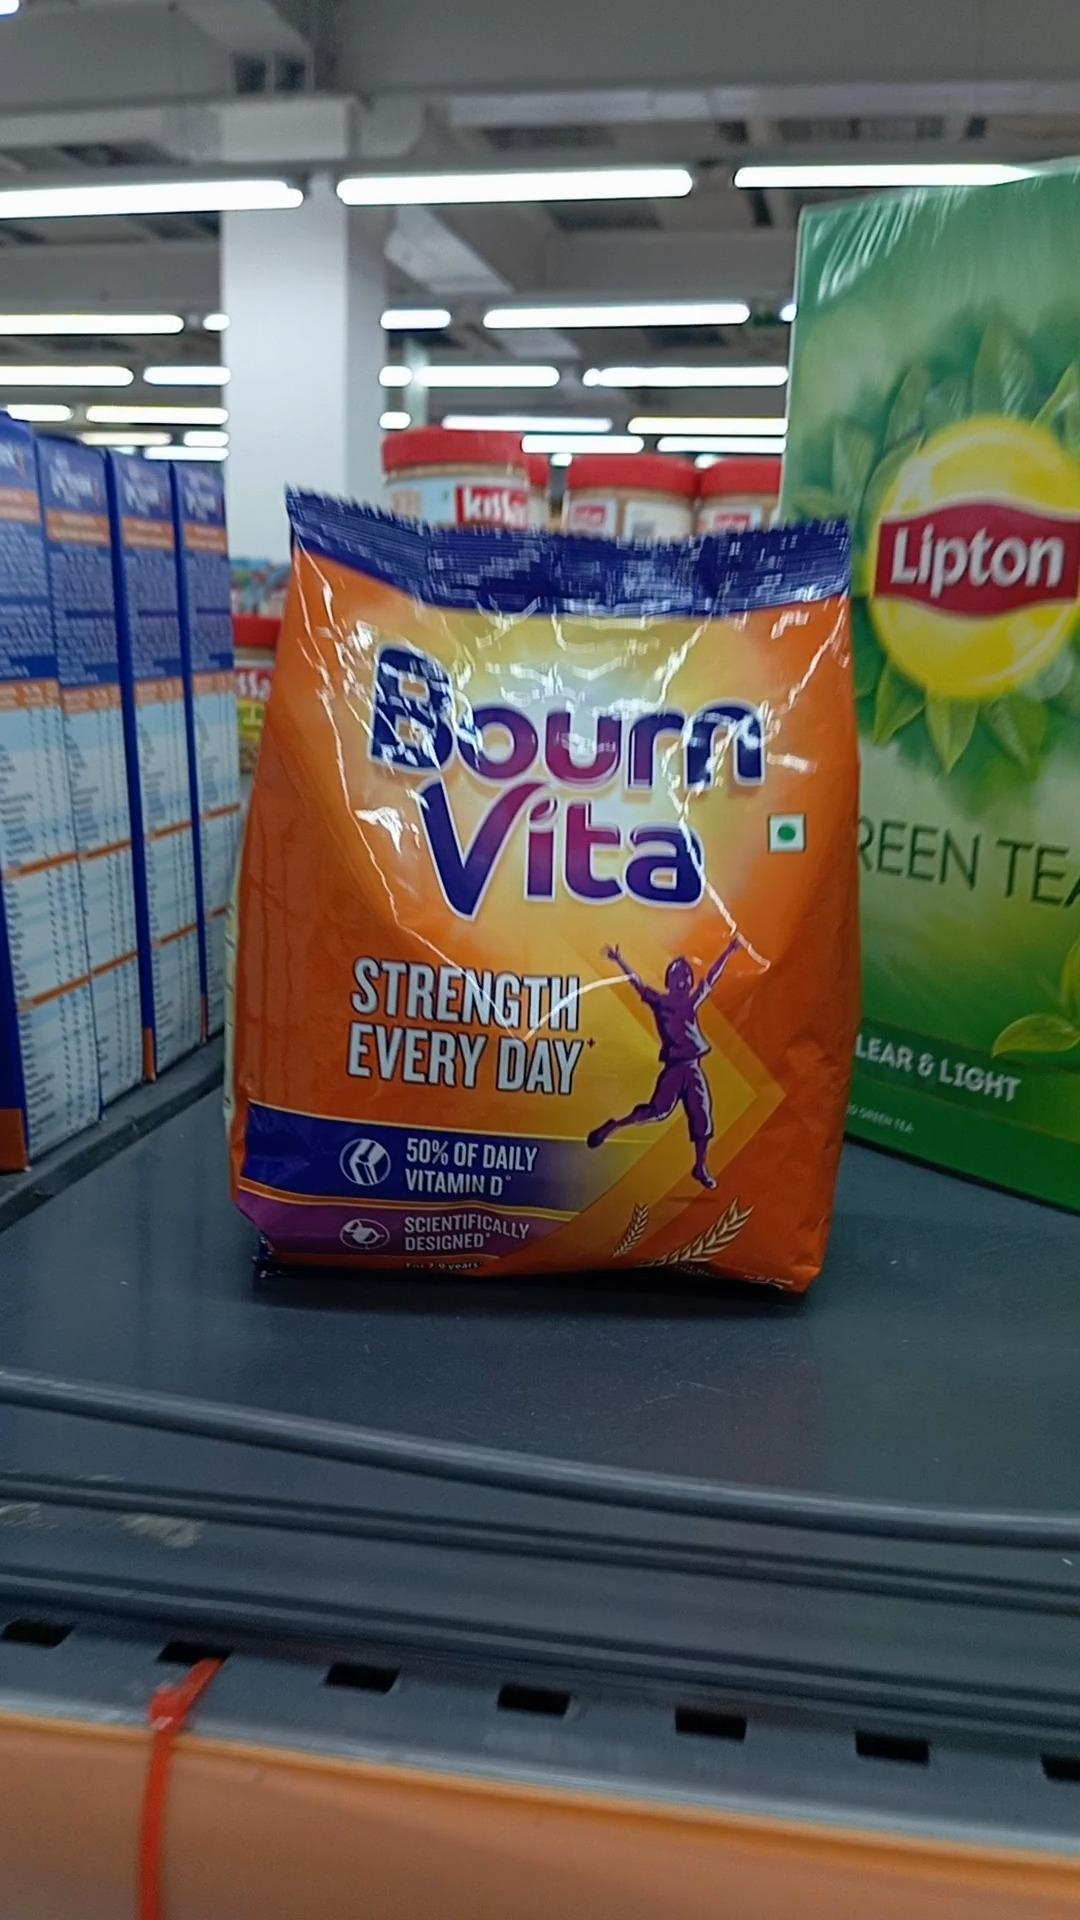BOURN_VITA_500_G_POUCH: (255, 455, 847, 1313)
